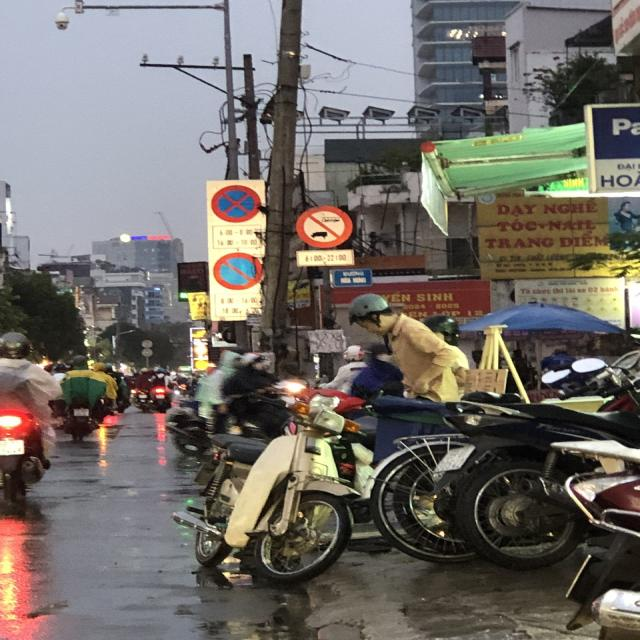Bien bao cam dung xe va do xe: (208, 182, 266, 225)
Bien bao cam xe oto khach va xe oto tai: (290, 202, 358, 251)
